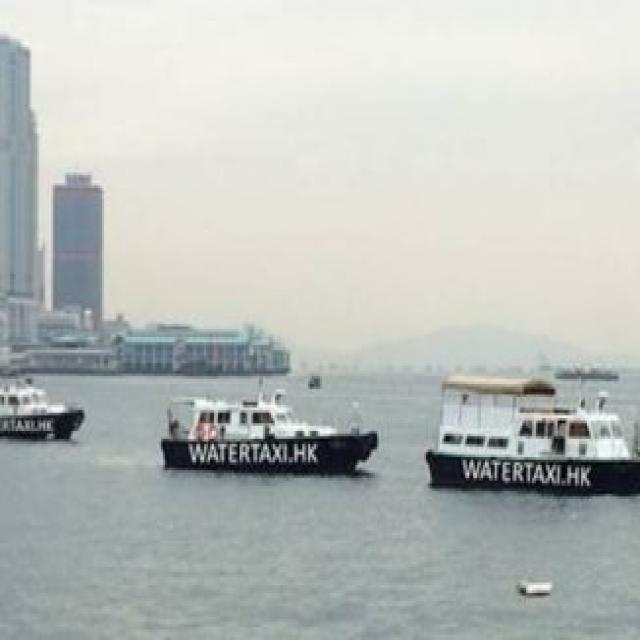houseboat: (422, 358, 640, 502), (156, 363, 386, 470)
